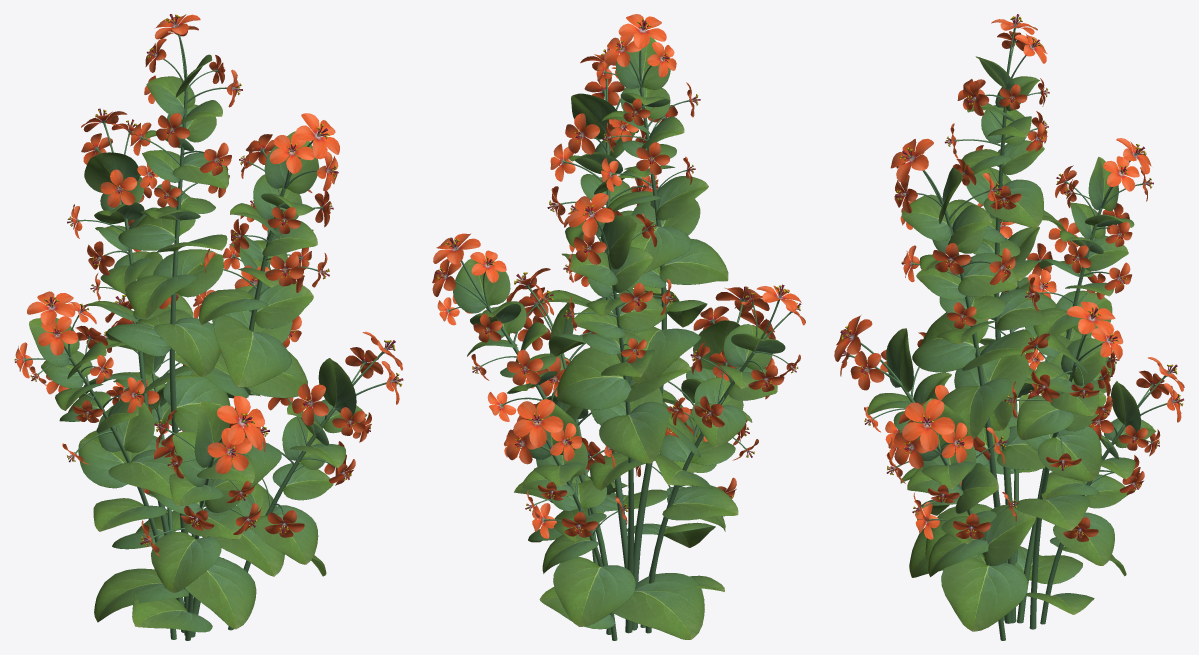
Rendered from cgaxis_models_91_49_fbx.fbx.
3 renders of one model, left to right at view 1: azimuth 30°, elevation 25°; view 2: azimuth 150°, elevation 25°; view 3: azimuth 270°, elevation 25°, orthographic. The views are drawn at different scales.
Parts seen in each view (by area): view 1: cgaxis_models_91_49_01; view 2: cgaxis_models_91_49_01; view 3: cgaxis_models_91_49_01.
Part boxes in pixels (box(x1,y1,x2,y2)): cgaxis_models_91_49_01: box(14, 14, 403, 640); cgaxis_models_91_49_01: box(432, 14, 805, 640); cgaxis_models_91_49_01: box(834, 14, 1184, 640).
Size of the model in its own units: 5.46 by 9.83 by 5.19.
Materials: 1 (1 with a texture image).
